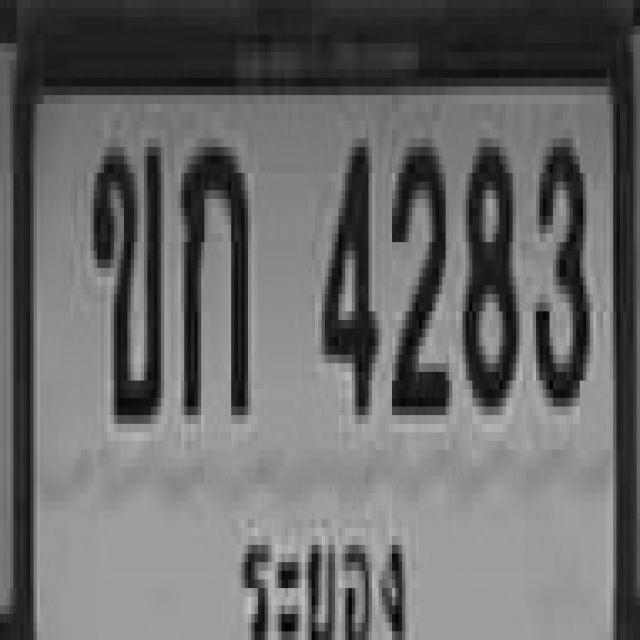10GorGai: (176, 110, 259, 477)
11KhorKhai: (82, 94, 176, 496)
2: (382, 99, 460, 448)
3: (525, 110, 600, 458)
4: (312, 116, 388, 438)
8: (462, 124, 526, 445)
Rayong: (221, 501, 492, 640)
